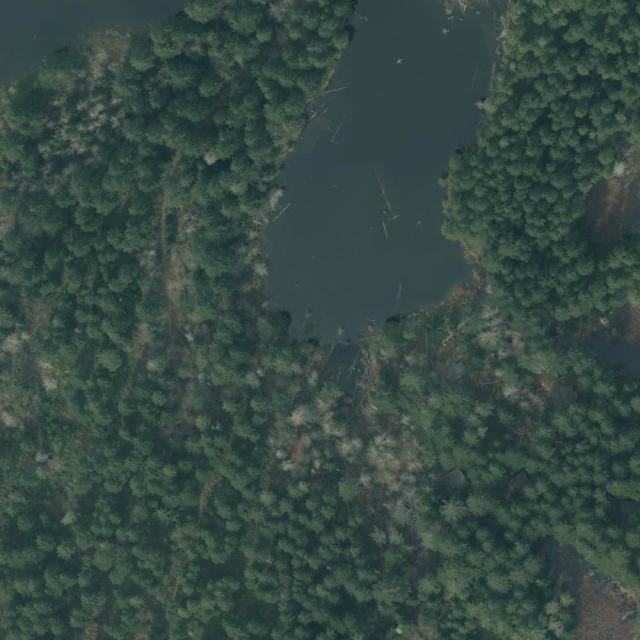wetland: (252, 0, 501, 356)
